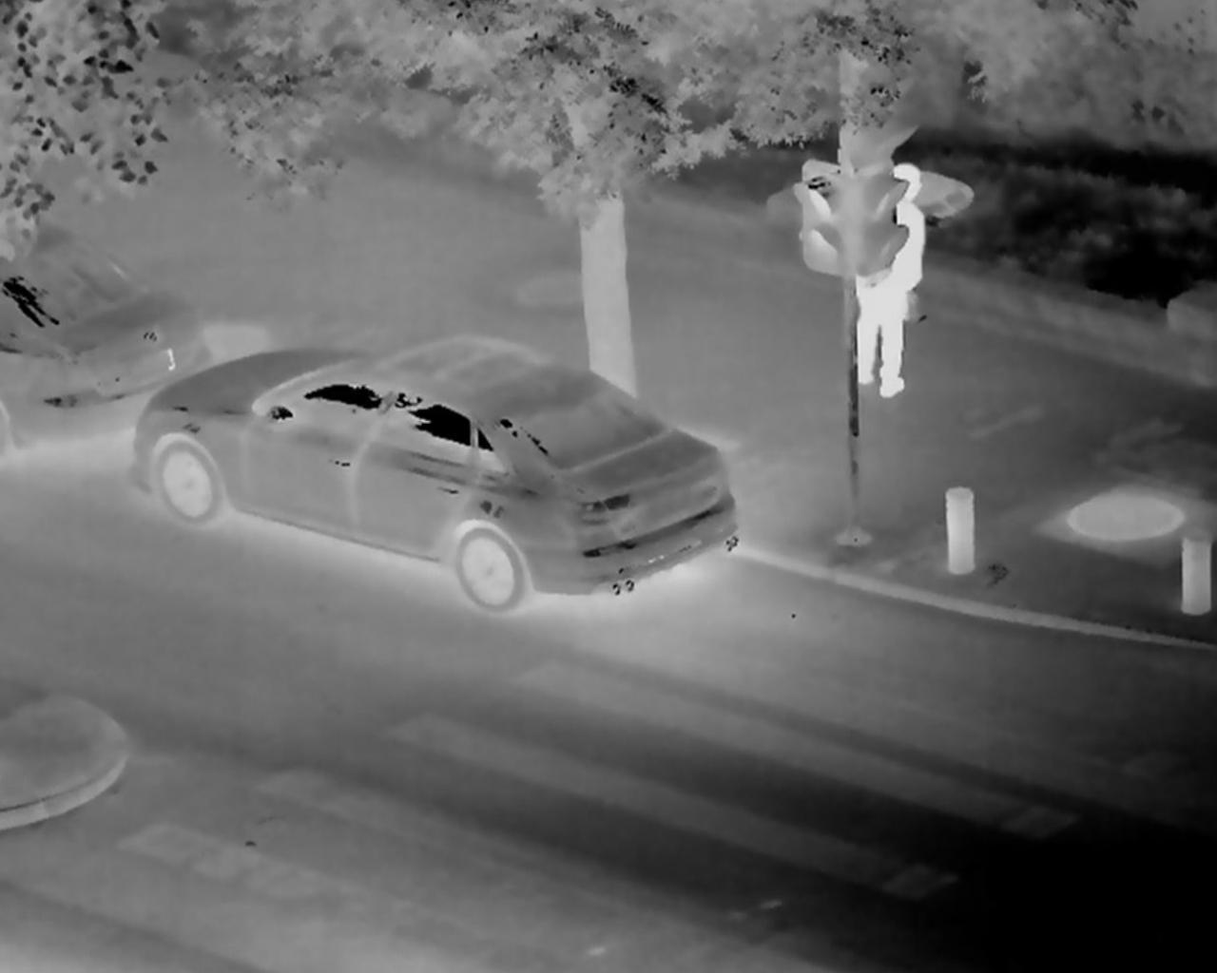person: (855, 162, 924, 398)
